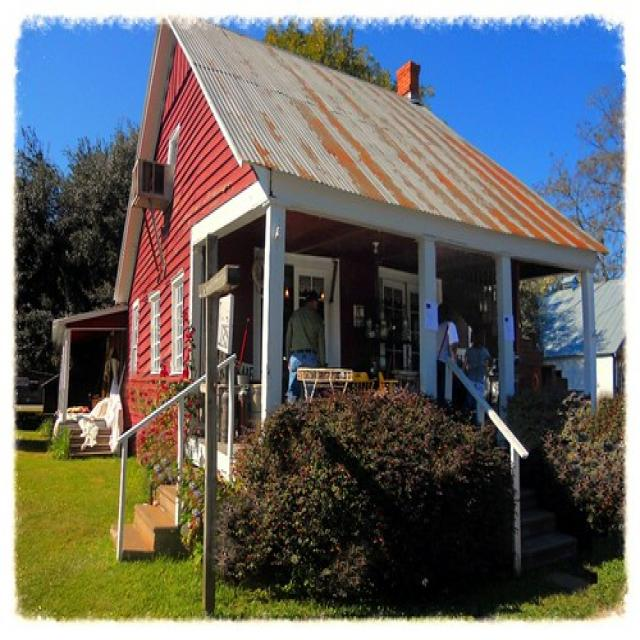Normal_building: (54, 16, 605, 614)
